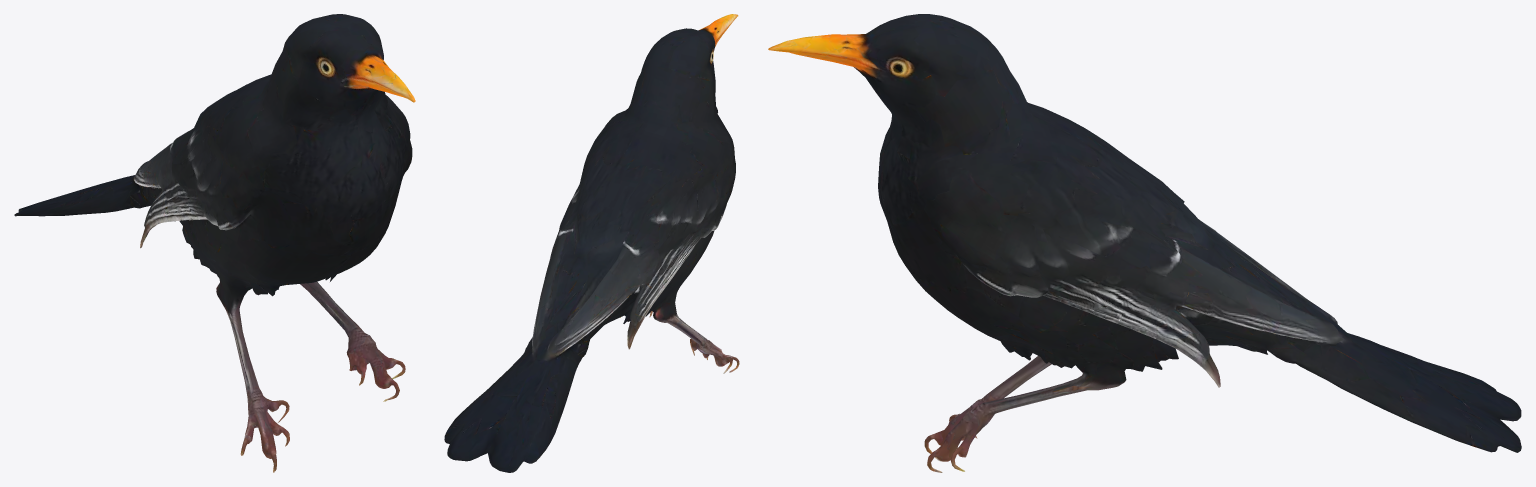
File: bird-merel.glb
3 views of the same model, side by side, from view 1: azimuth 30°, elevation 25°; view 2: azimuth 150°, elevation 25°; view 3: azimuth 270°, elevation 25° (orthographic). The views are drawn at different scales.
Bounding box in the file's own units: 0.5482 × 1.32 × 1.91.
1 material, 1 textured.
